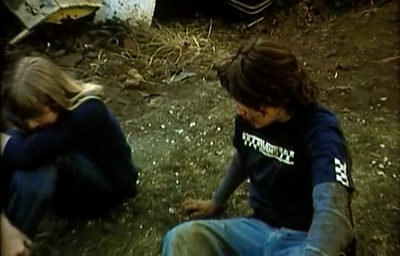face: (235, 79, 277, 128)
ms: (1, 1, 400, 256)
person: (161, 33, 356, 256), (1, 49, 138, 256)
